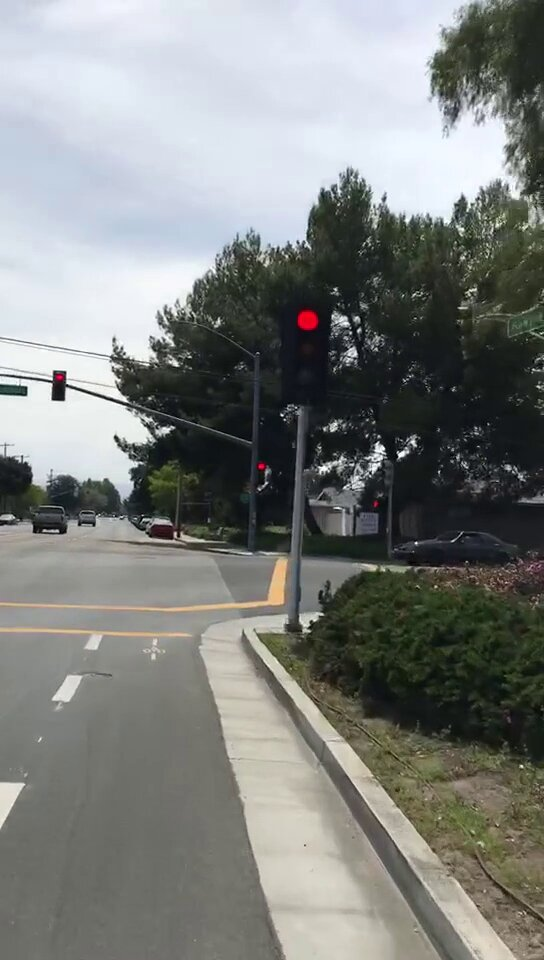red_light: (287, 309, 327, 399), (52, 370, 65, 397), (255, 458, 267, 483)
